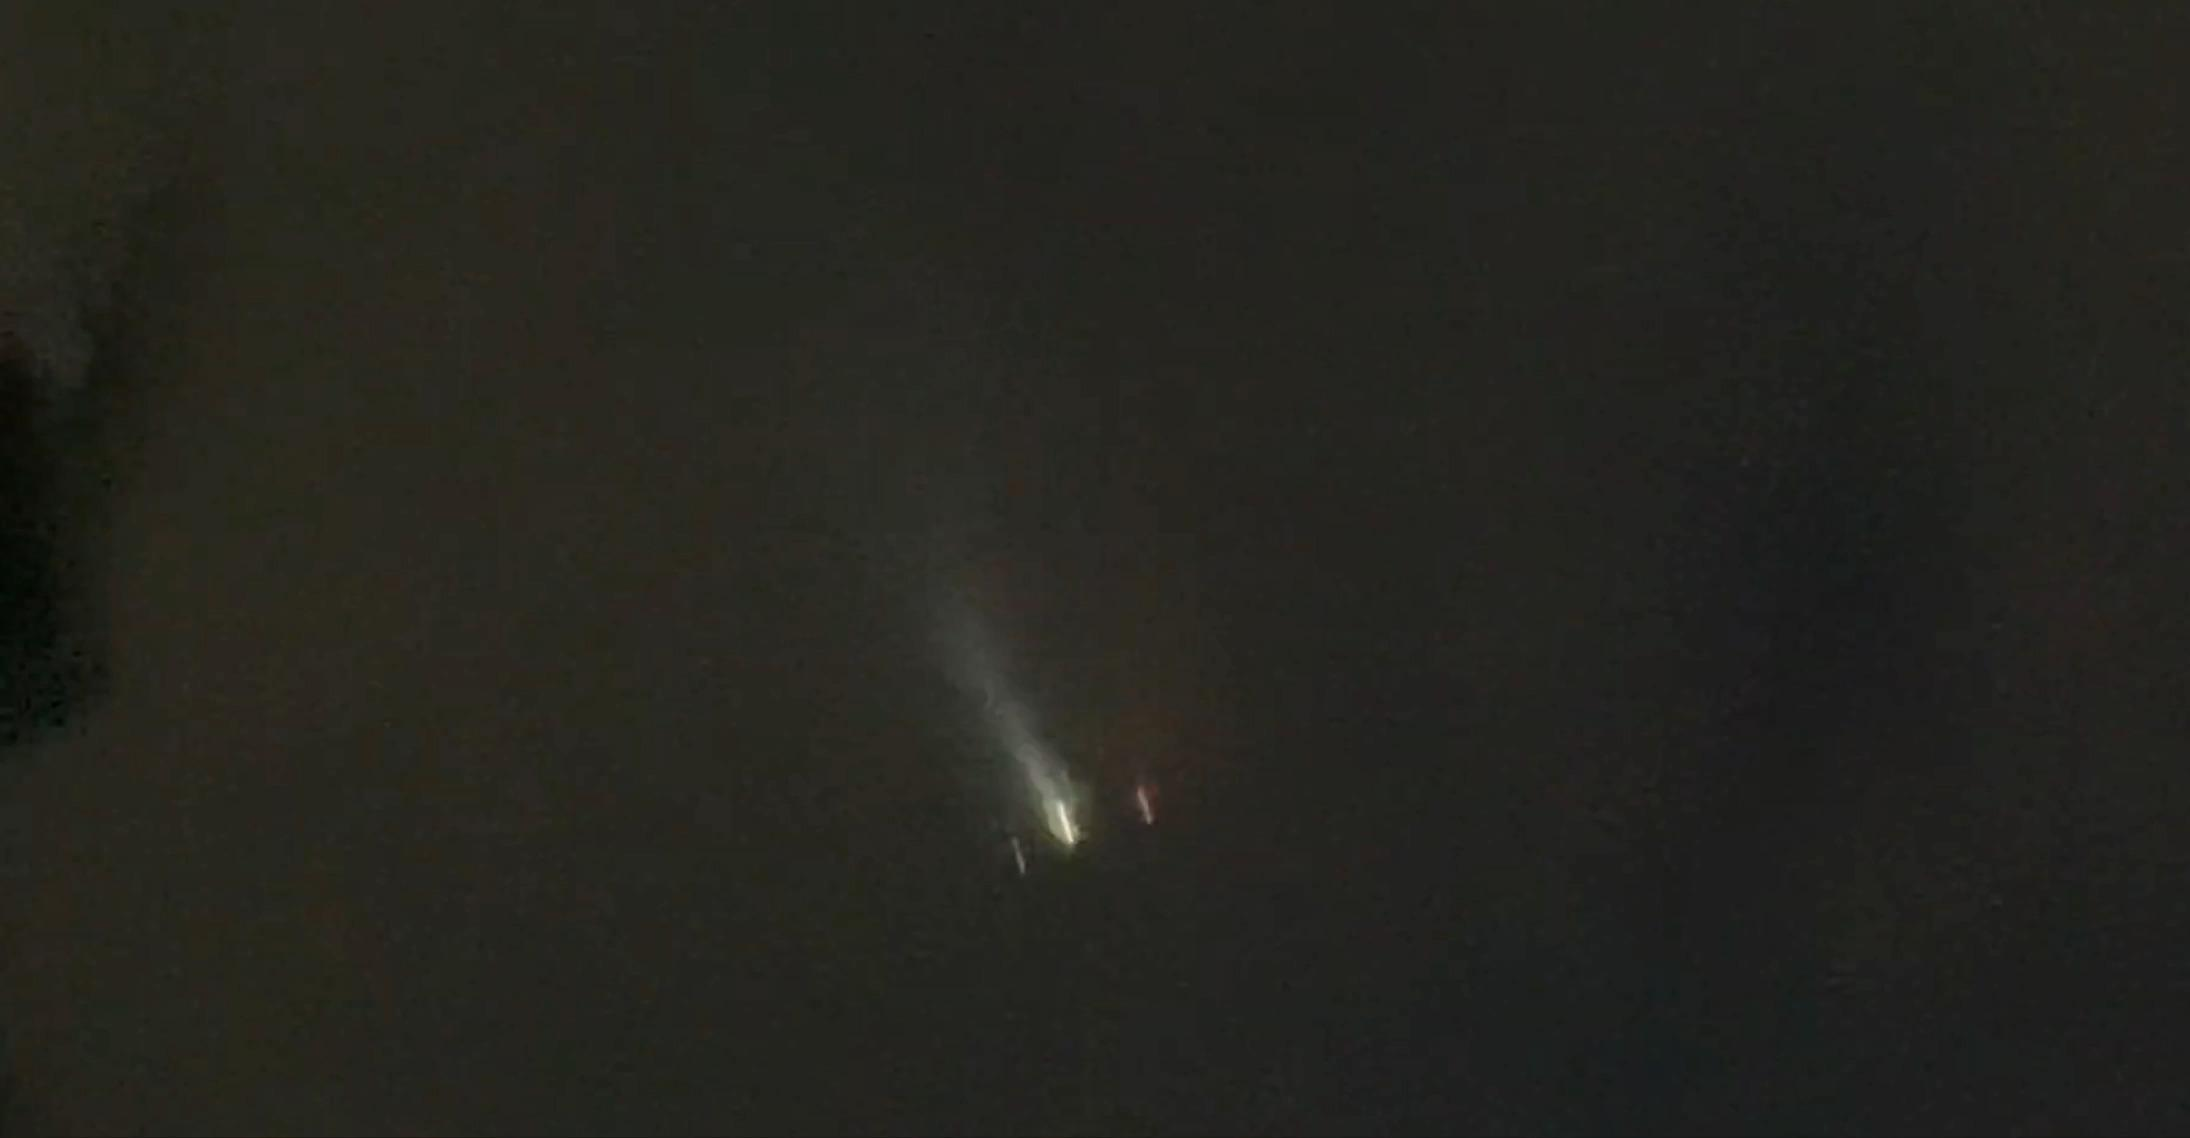Plane: (827, 599, 1272, 905)
